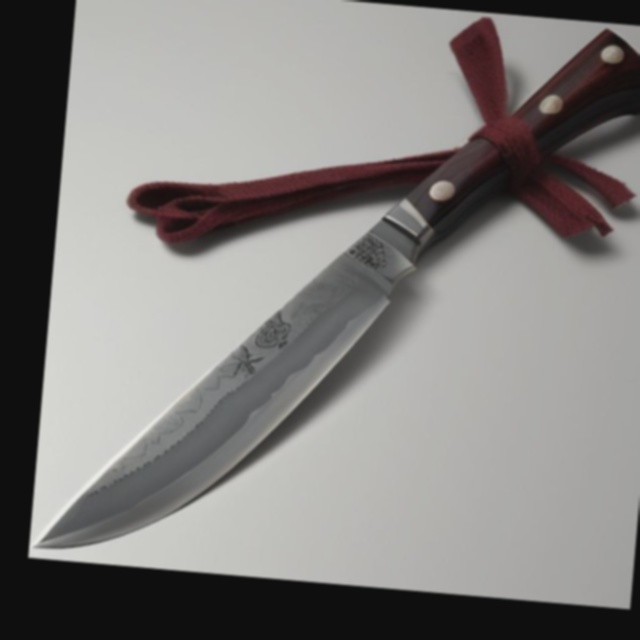Sharp-Object: (29, 0, 640, 605)
